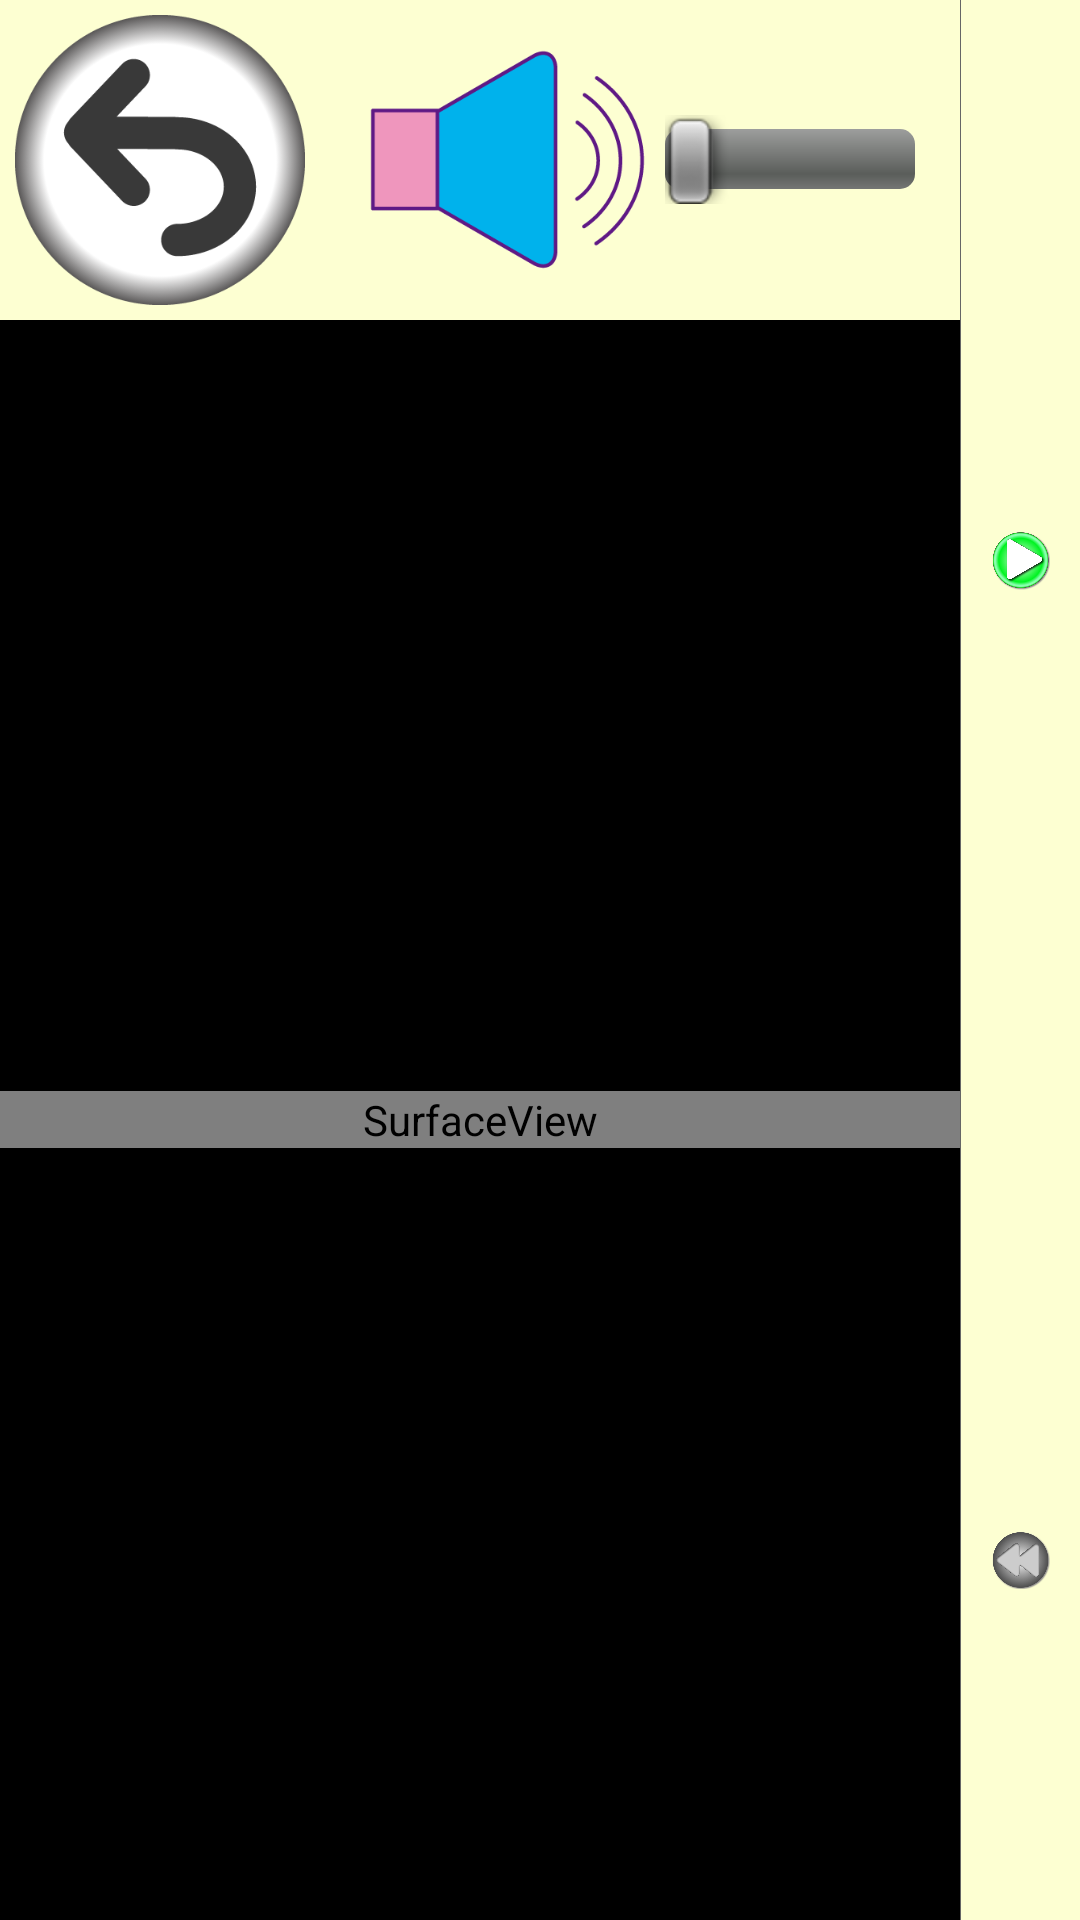

Icons on this 1080px×1920px Android screen, each with the point to tap as [x,y]:
player start: [1021,561]
return: [160,160]
sound: [507,160]
